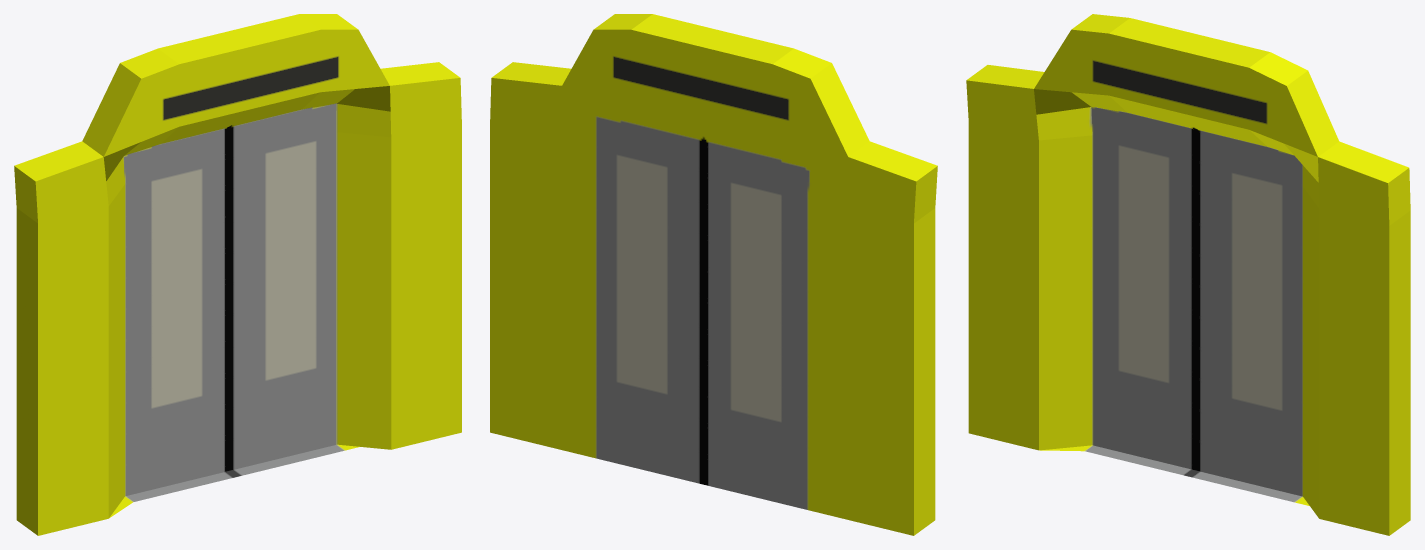
The model's file is subwayRearDoor.glb.
The picture shows the model from 3 angles, left to right: view 1: azimuth 30°, elevation 25°; view 2: azimuth 150°, elevation 25°; view 3: azimuth 330°, elevation 25°; orthographic projection.
Visible parts, largest first — view 1: Cube.002; view 2: Cube.002; view 3: Cube.002.
Part boxes in pixels (x1,y1,x2,y2): Cube.002: [14, 14, 461, 535]; Cube.002: [490, 14, 937, 535]; Cube.002: [966, 14, 1410, 535].
Size of the model in its own units: 9.57 by 9.38 by 0.8361.
Materials: 1 (1 with a texture image).
